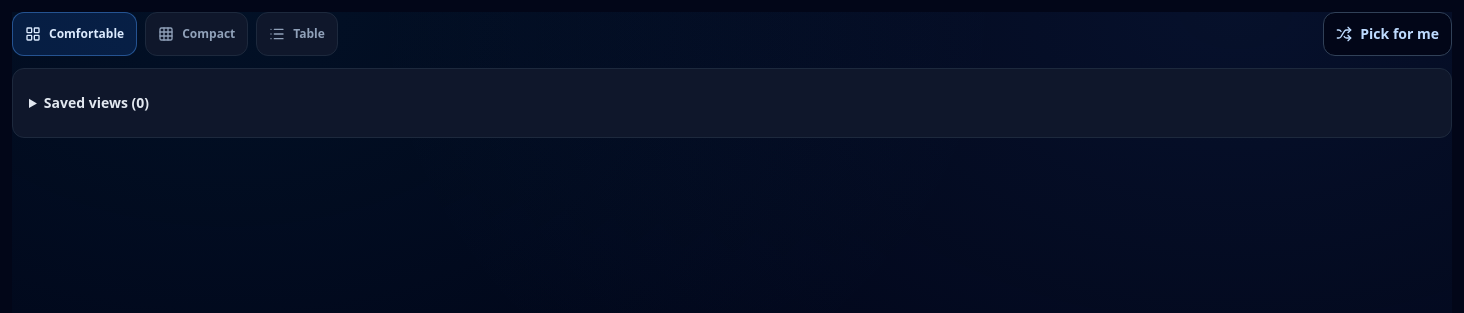
Test: saved view controls › saves clean links, preserves them across density changes and removes only the chosen view
This screenshot has width=1464, height=313.
Step 1. Click the heading "Saved views (0)" → (96, 102), box [44, 93, 149, 112]
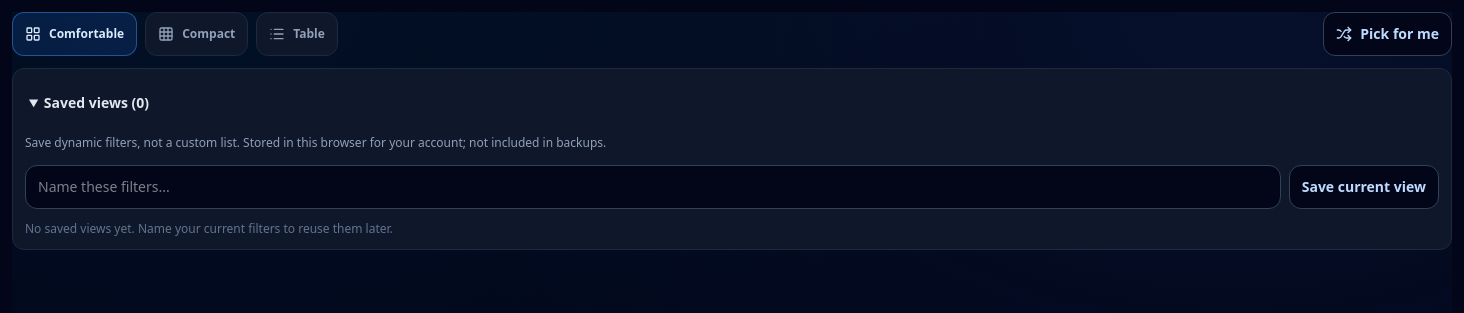
Step 2. Type "Watch next" into the field named "Saved view name" → (653, 187), box [25, 165, 1281, 209]
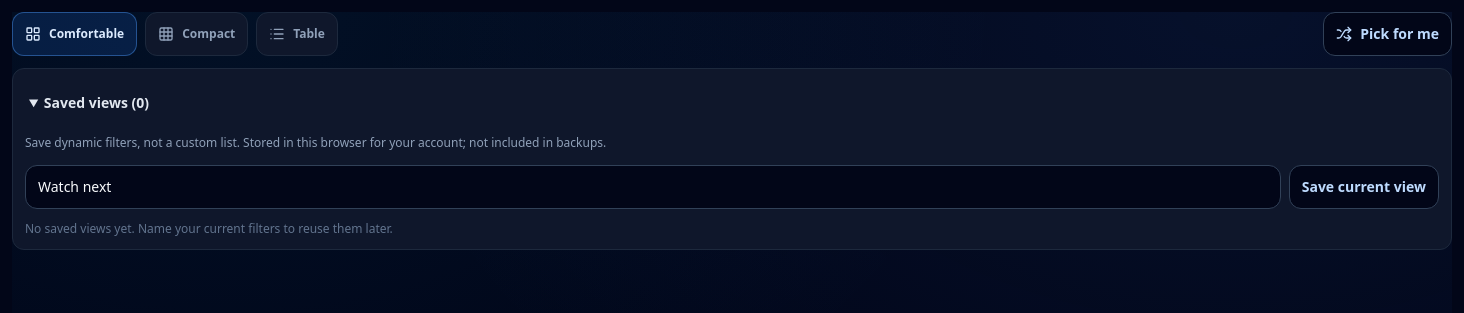
Step 3. Click the button "Save current view" → (1364, 187), box [1289, 165, 1439, 209]
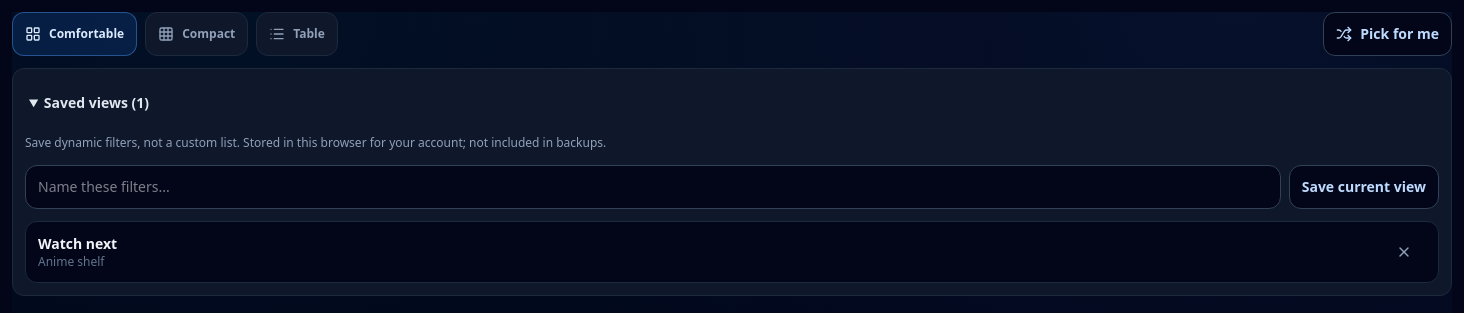
Step 4. Click the button "Compact" → (197, 34), box [145, 12, 248, 56]
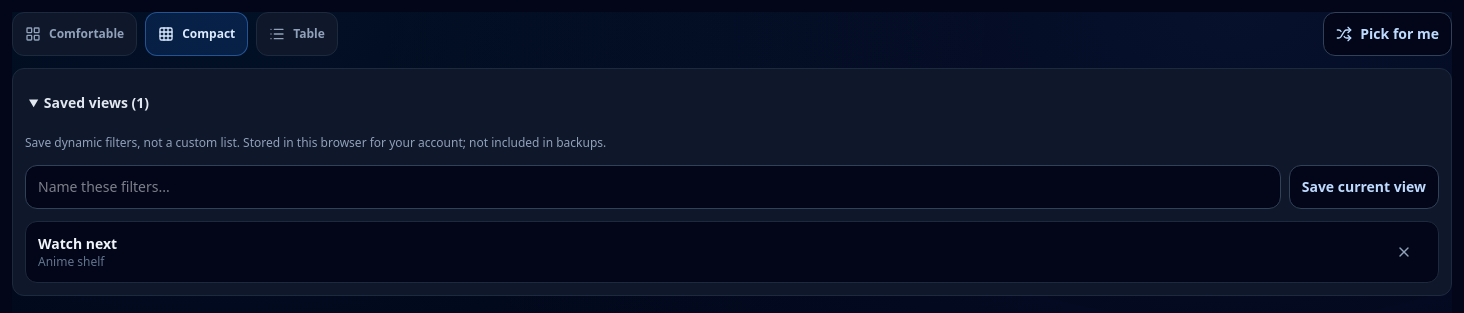
Step 5. Click the button named "Remove saved view Watch next" → (1404, 252), box [1382, 230, 1426, 274]
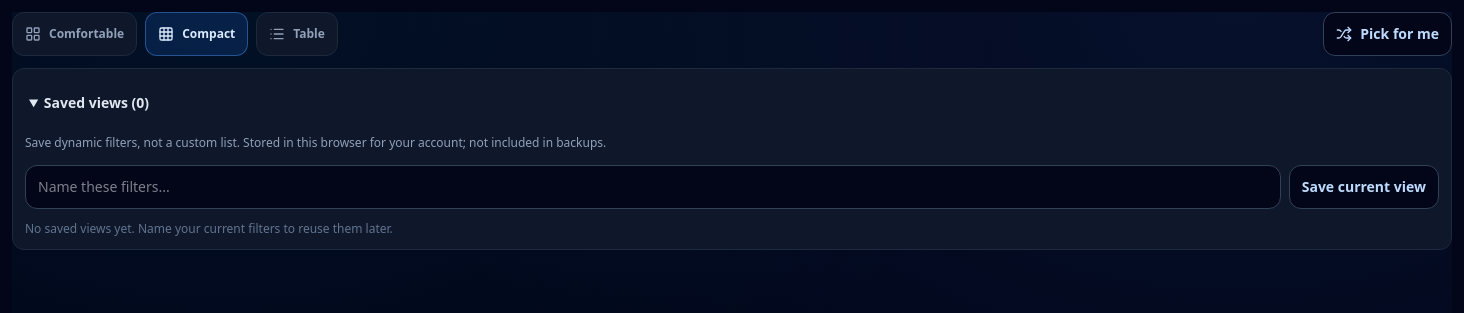
Expected: the link "Watch next" is gone
